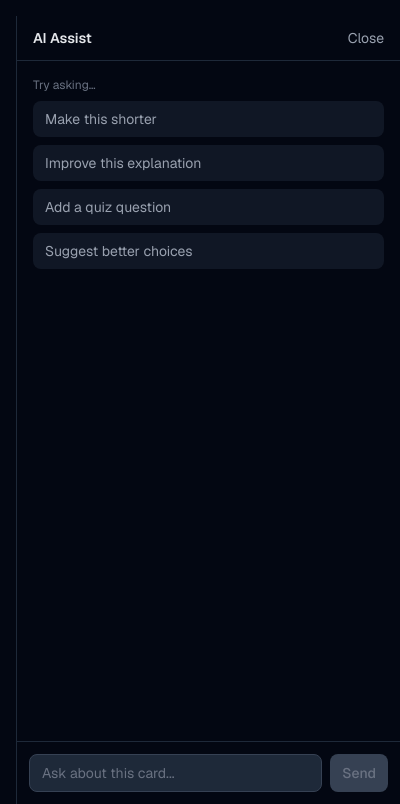
Test case: AIChatPanel streaming › re-enables input after successful stream
Click the button "Improve this explanation".
click(123, 163)  # box [33,145,384,181]
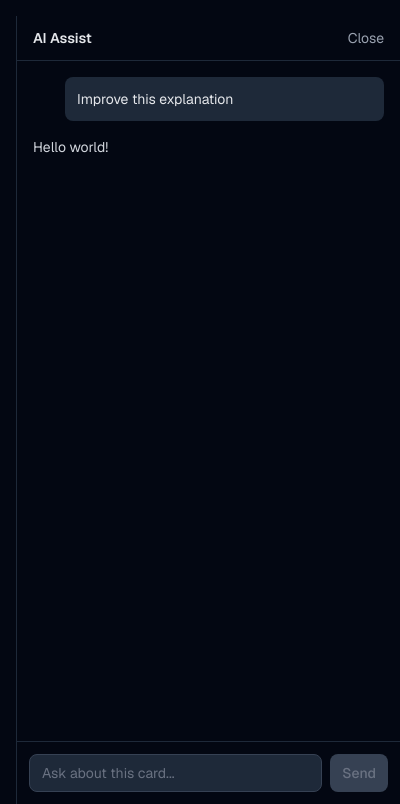
Expected: the field with placeholder "Ask about this card..." is enabled, [29,754,322,792]
Expected: the text "Hello world!" is shown, [33,138,108,156]
